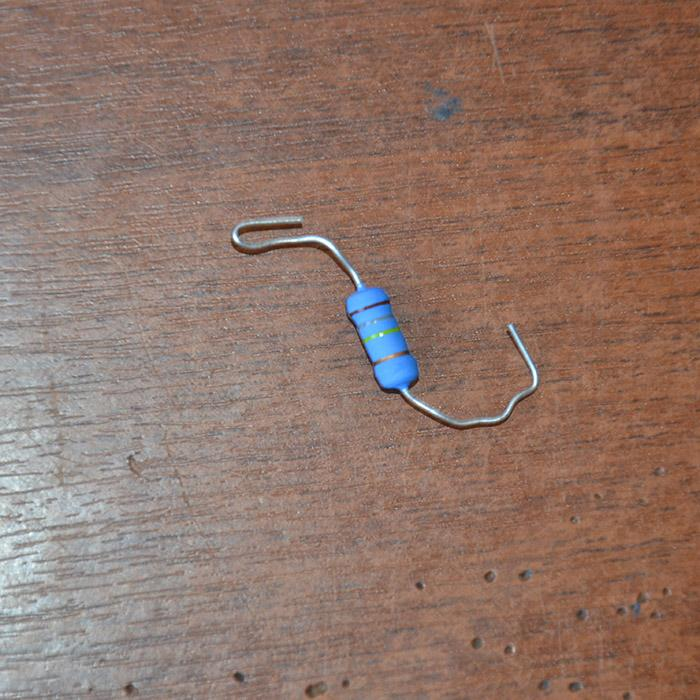resistor: (345, 285, 416, 390)
